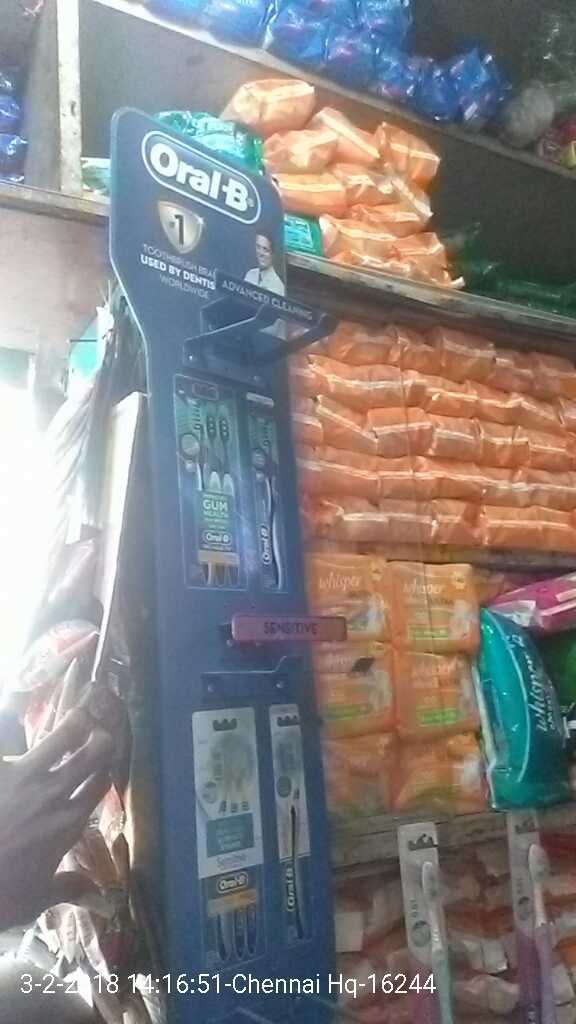pharmacy: (473, 599, 576, 815), (387, 558, 477, 650), (397, 735, 492, 817), (393, 648, 478, 732), (308, 550, 384, 639)
